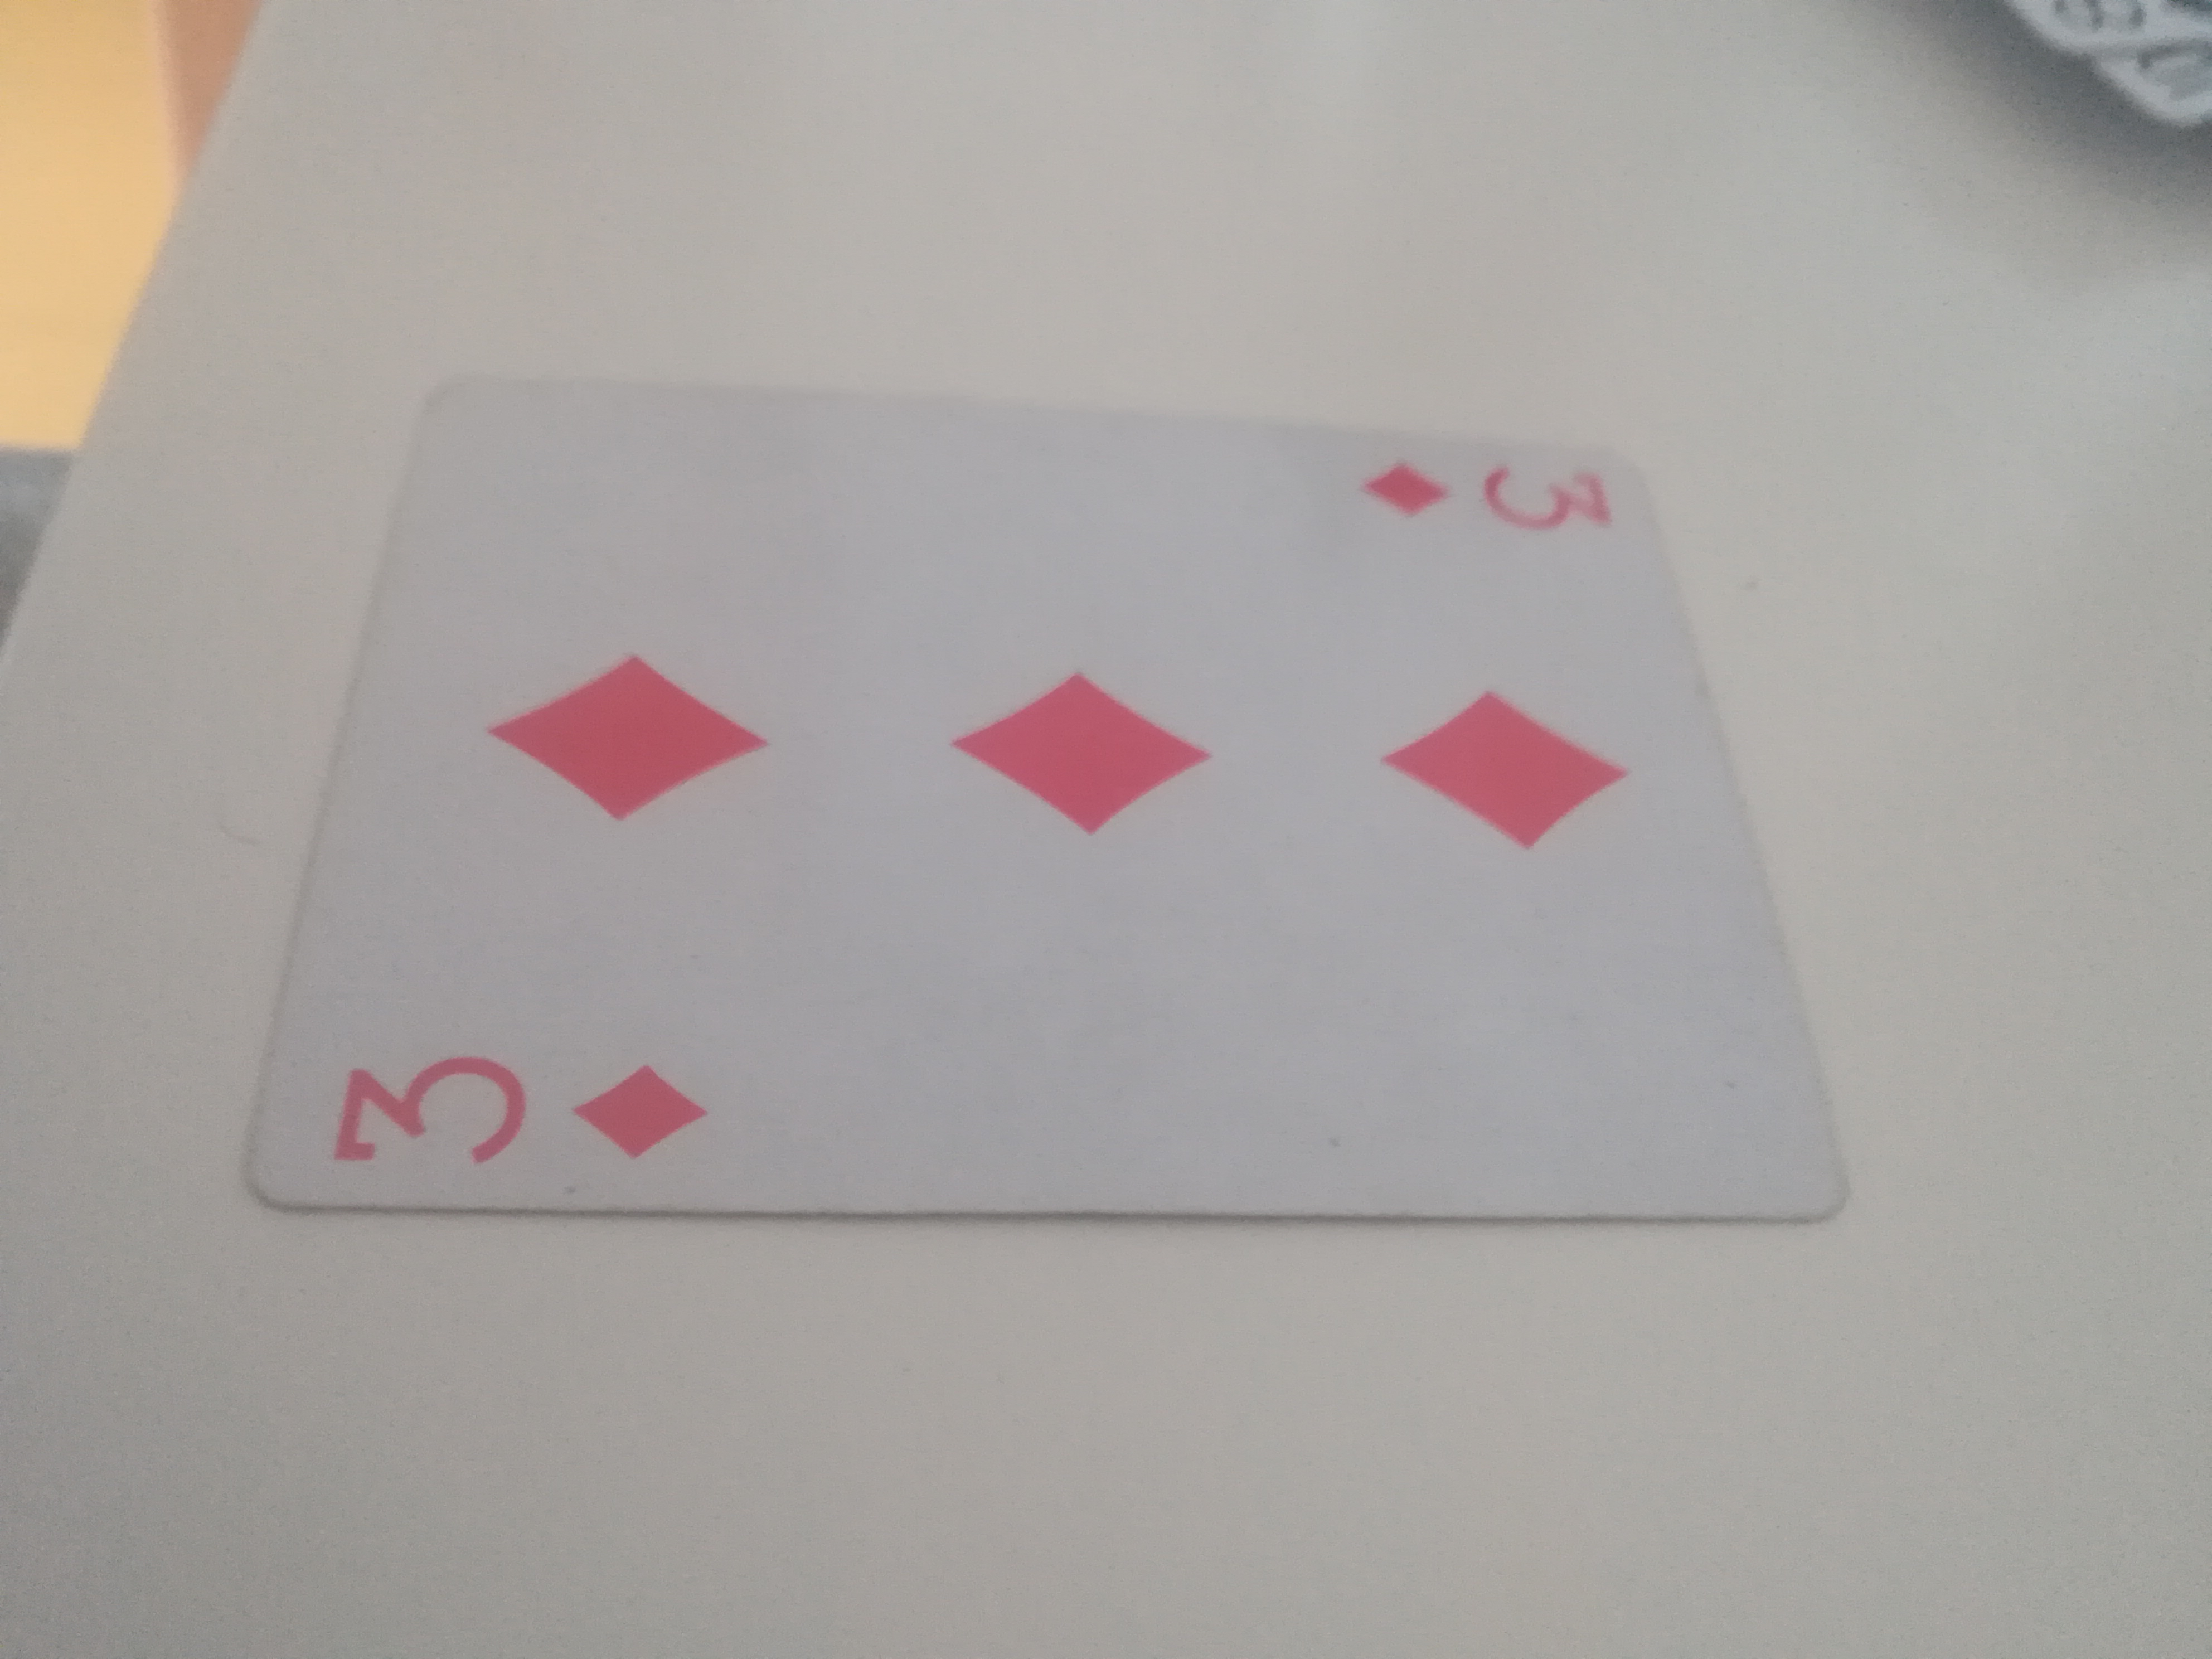3D: (249, 378, 1871, 1248)
